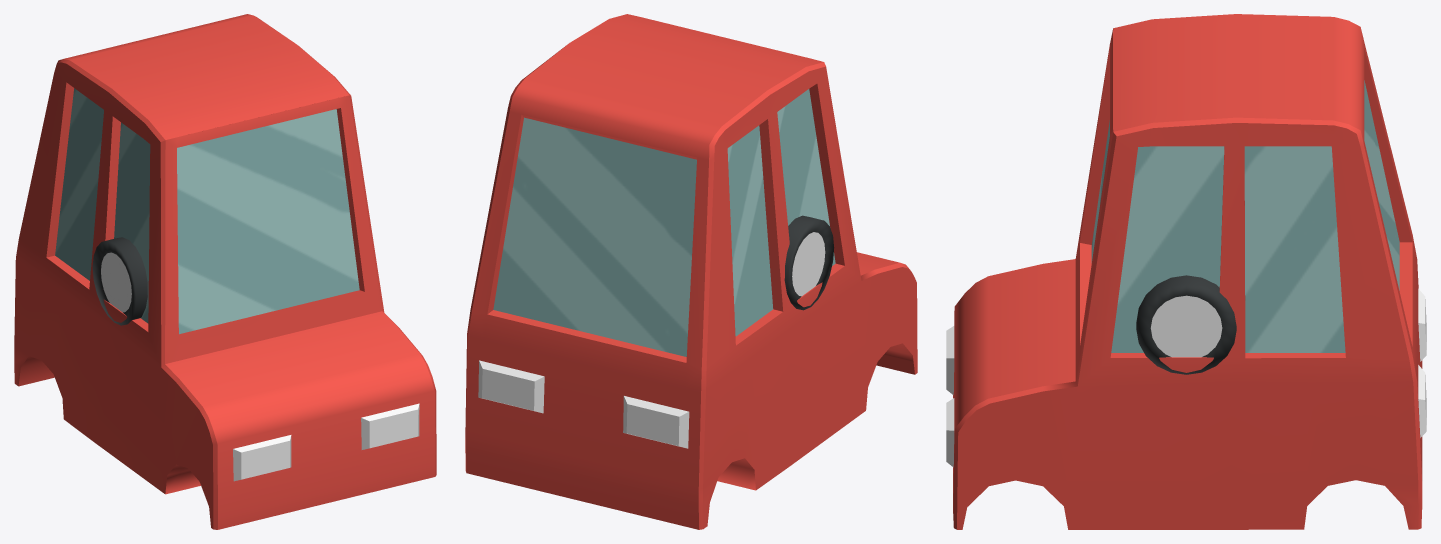
File: car_2_R.fbx
3 renders of one model, left to right at view 1: azimuth 30°, elevation 25°; view 2: azimuth 150°, elevation 25°; view 3: azimuth 270°, elevation 25°, orthographic. The views are drawn at different scales.
Visible parts, largest first — view 1: car_2_chasis_R, car_2_right_wheel_R, car_2_back_wheel_R; view 2: car_2_chasis_R, car_2_right_wheel_R, car_2_back_wheel_R; view 3: car_2_chasis_R, car_2_left_wheel_R, car_2_back_wheel_R.
Boxes of the visible parts, x1,y1,x2,y2 form: car_2_chasis_R: [14, 14, 436, 529]; car_2_right_wheel_R: [92, 241, 147, 324]; car_2_back_wheel_R: [92, 237, 147, 325]; car_2_chasis_R: [465, 14, 917, 529]; car_2_right_wheel_R: [785, 219, 834, 308]; car_2_back_wheel_R: [784, 215, 833, 310]; car_2_chasis_R: [946, 14, 1426, 529]; car_2_left_wheel_R: [1136, 283, 1236, 372]; car_2_back_wheel_R: [1136, 275, 1236, 374].
Size of the model in its own units: 80.78 by 120 by 130.
